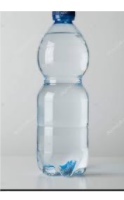Bottle: (35, 11, 91, 175)
